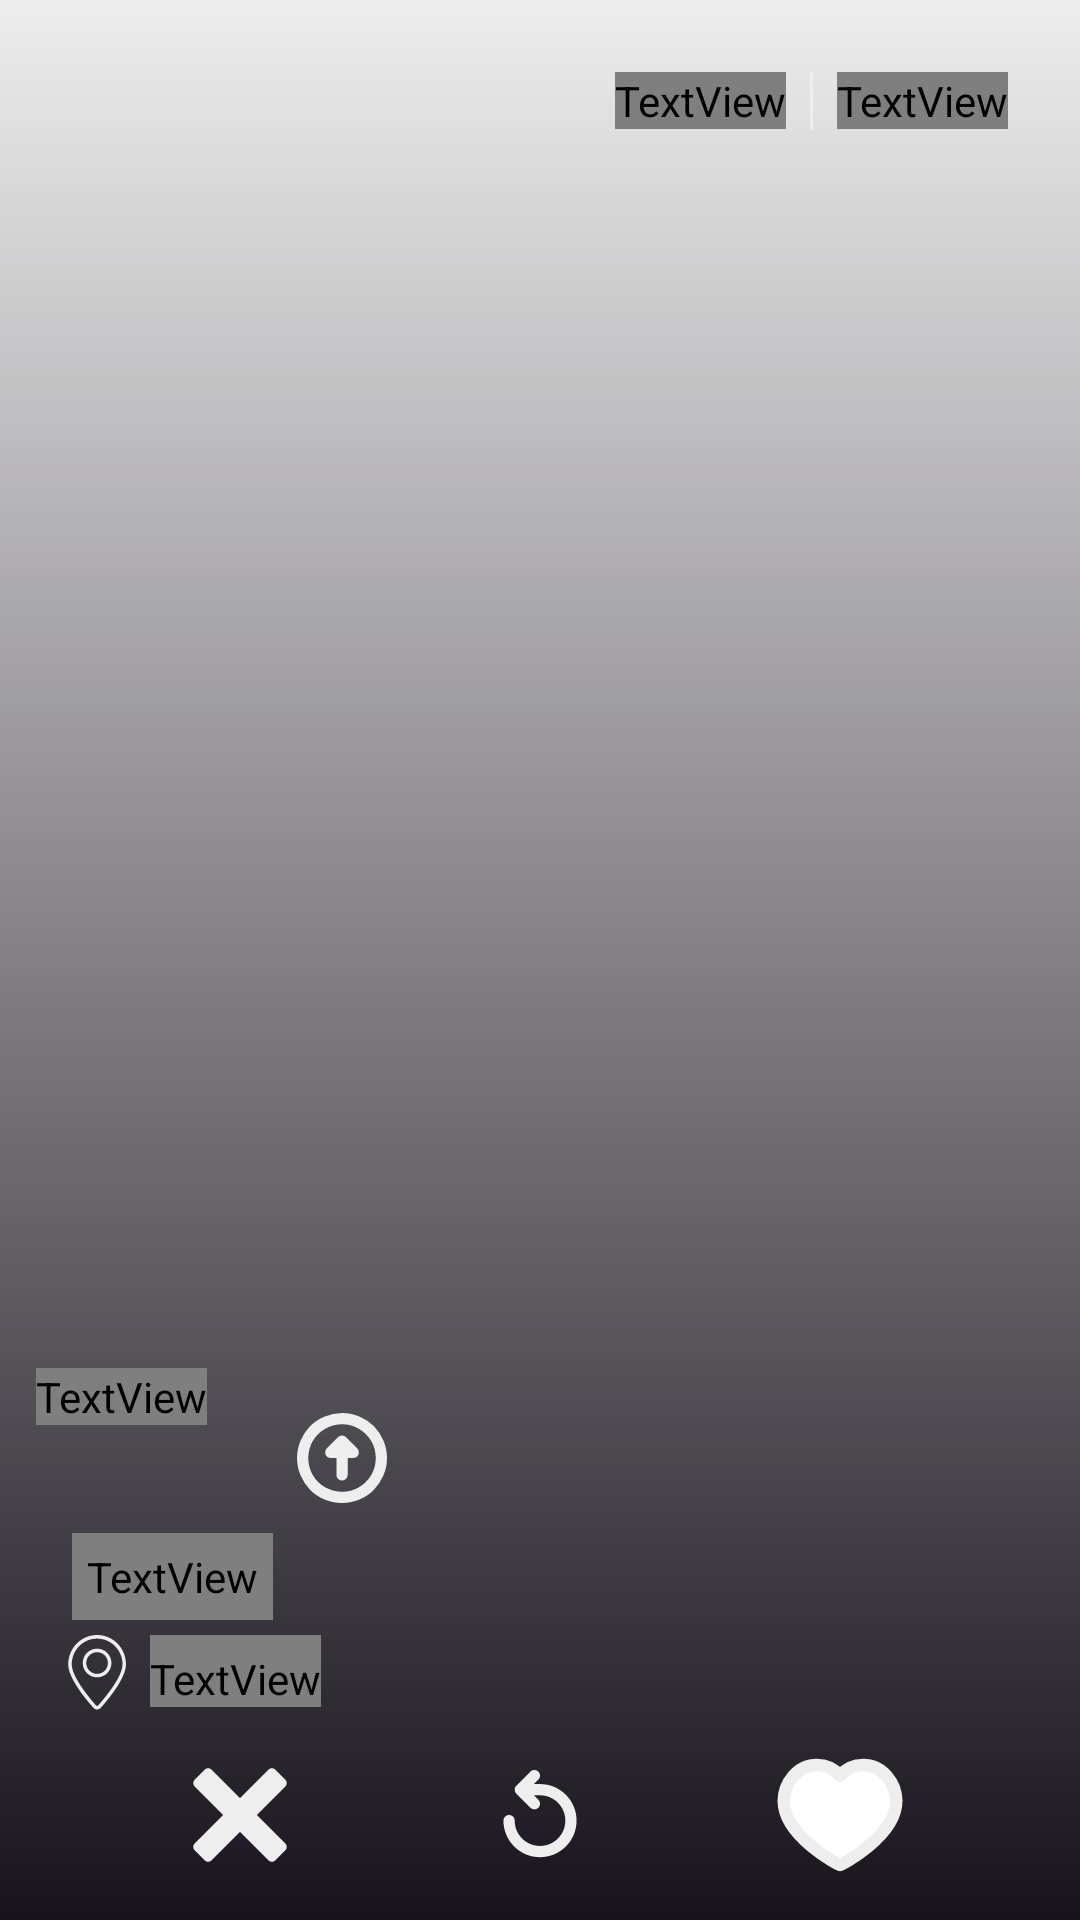

Icon click points for this 1080 × 1920 phone screenshot, format (x=x, y=y):
cancel: (x=240, y=1815)
heart: (x=840, y=1814)
map: (x=97, y=1672)
undo: (x=540, y=1814)
